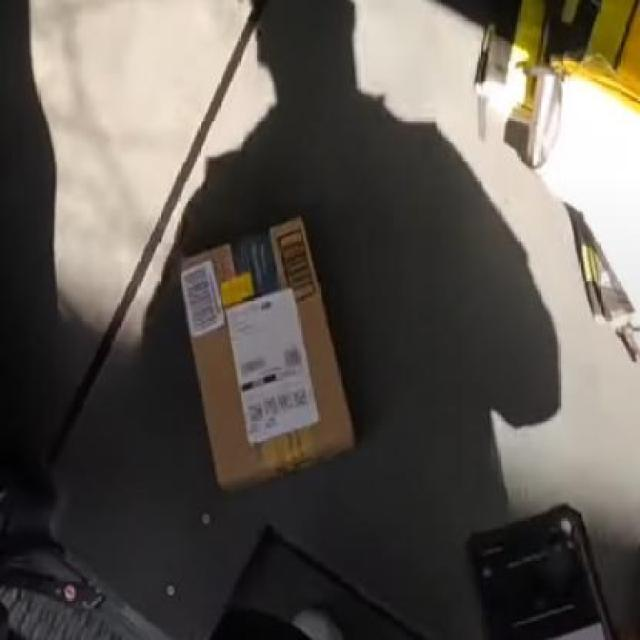cardboxes: (175, 208, 359, 506)
